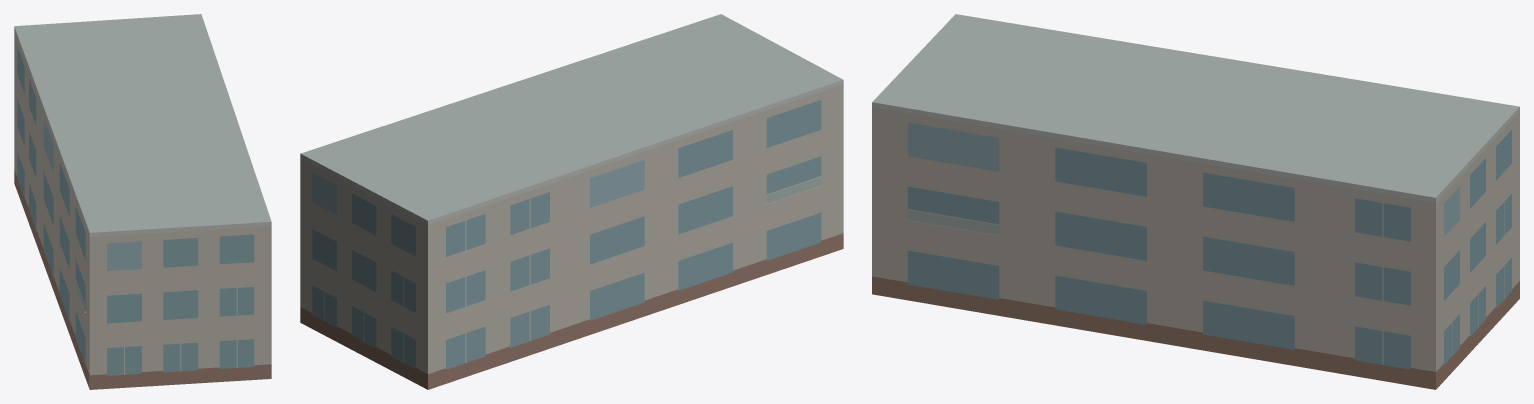
File: survey-upis-32510465.glb
The picture shows the model from 3 angles, left to right: view 1: azimuth 30°, elevation 25°; view 2: azimuth 150°, elevation 25°; view 3: azimuth 270°, elevation 25°; orthographic projection. The views are drawn at different scales.
Visible parts, largest first — view 1: survey-upis-32510465.tmp; view 2: survey-upis-32510465.tmp; view 3: survey-upis-32510465.tmp.
Part boxes in pixels (x1,y1,x2,y2): survey-upis-32510465.tmp: (14, 14, 271, 389); survey-upis-32510465.tmp: (300, 14, 843, 389); survey-upis-32510465.tmp: (872, 14, 1519, 389).
Bounding box in the file's own units: 18.79 × 9.15 × 27.97.
